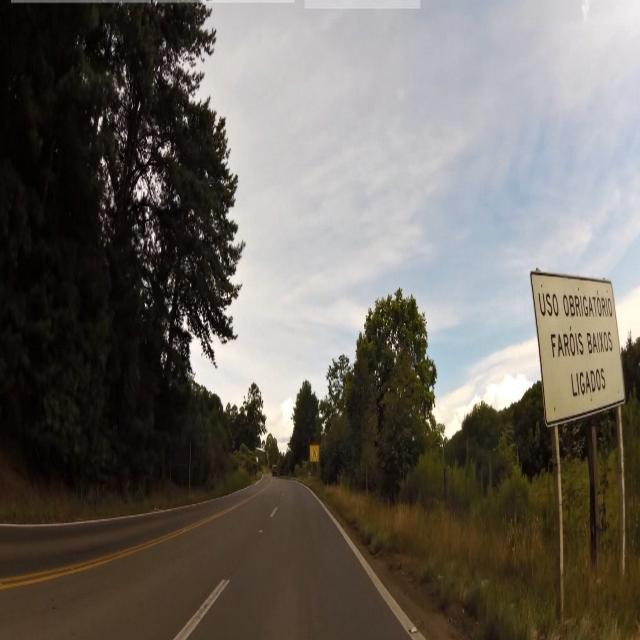E-5: (532, 277, 629, 413)
